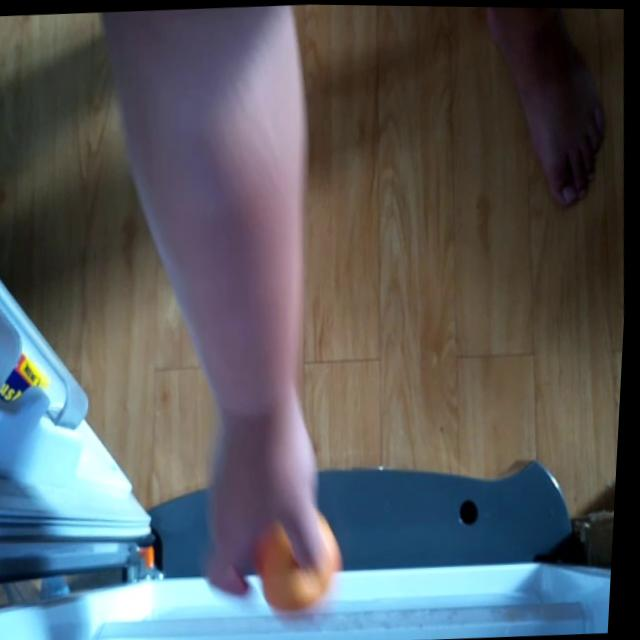apple: (254, 513, 355, 617)
